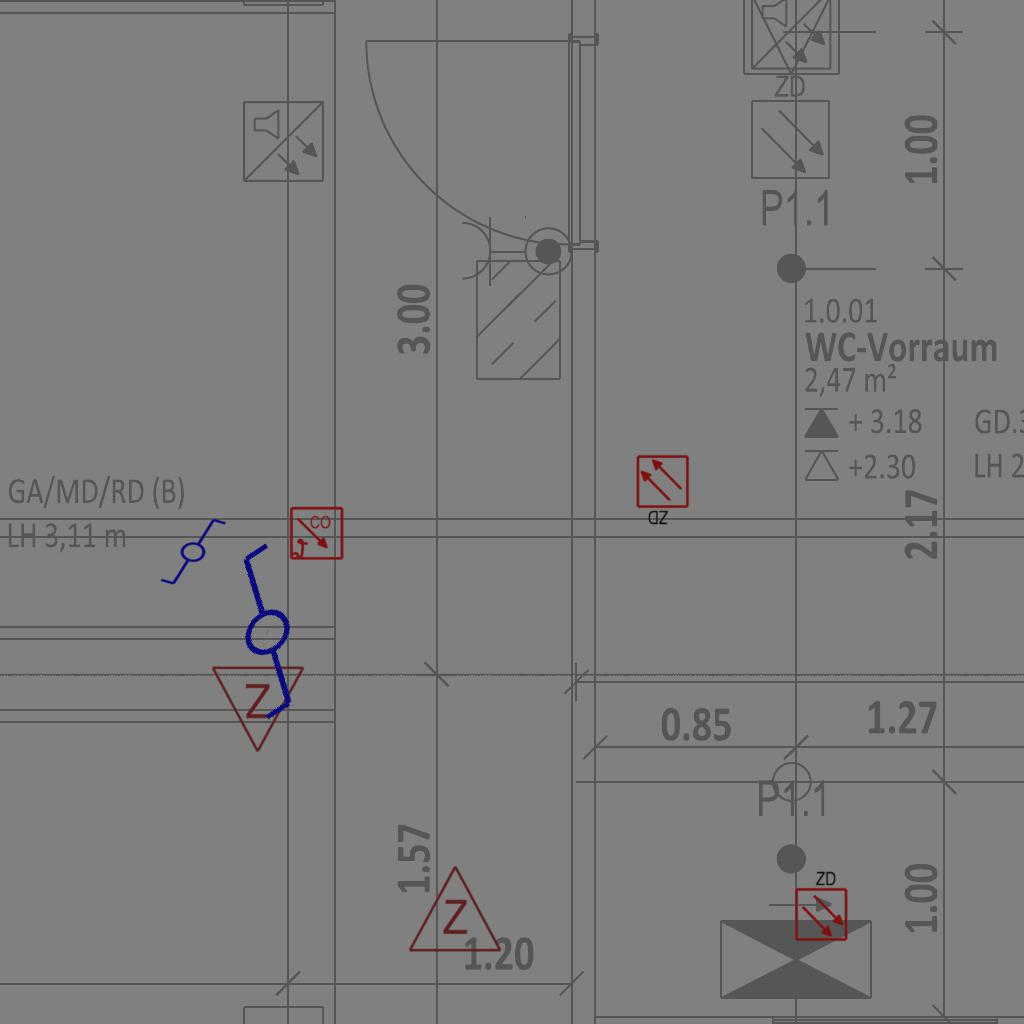ROA_Rauchmelder_optisch_mit_Signalgeber_(Sockelsirene): (289, 506, 345, 562)
Wechselschalter: (154, 530, 367, 744), (150, 515, 228, 587)
ZD_Melder_in_Zwischendecke_mit_Revisionsoeffnung_mind_40_x_40_cm: (792, 868, 849, 942), (635, 454, 692, 528)
Zimmersignalleuchte: (405, 859, 503, 959), (210, 659, 308, 759)
